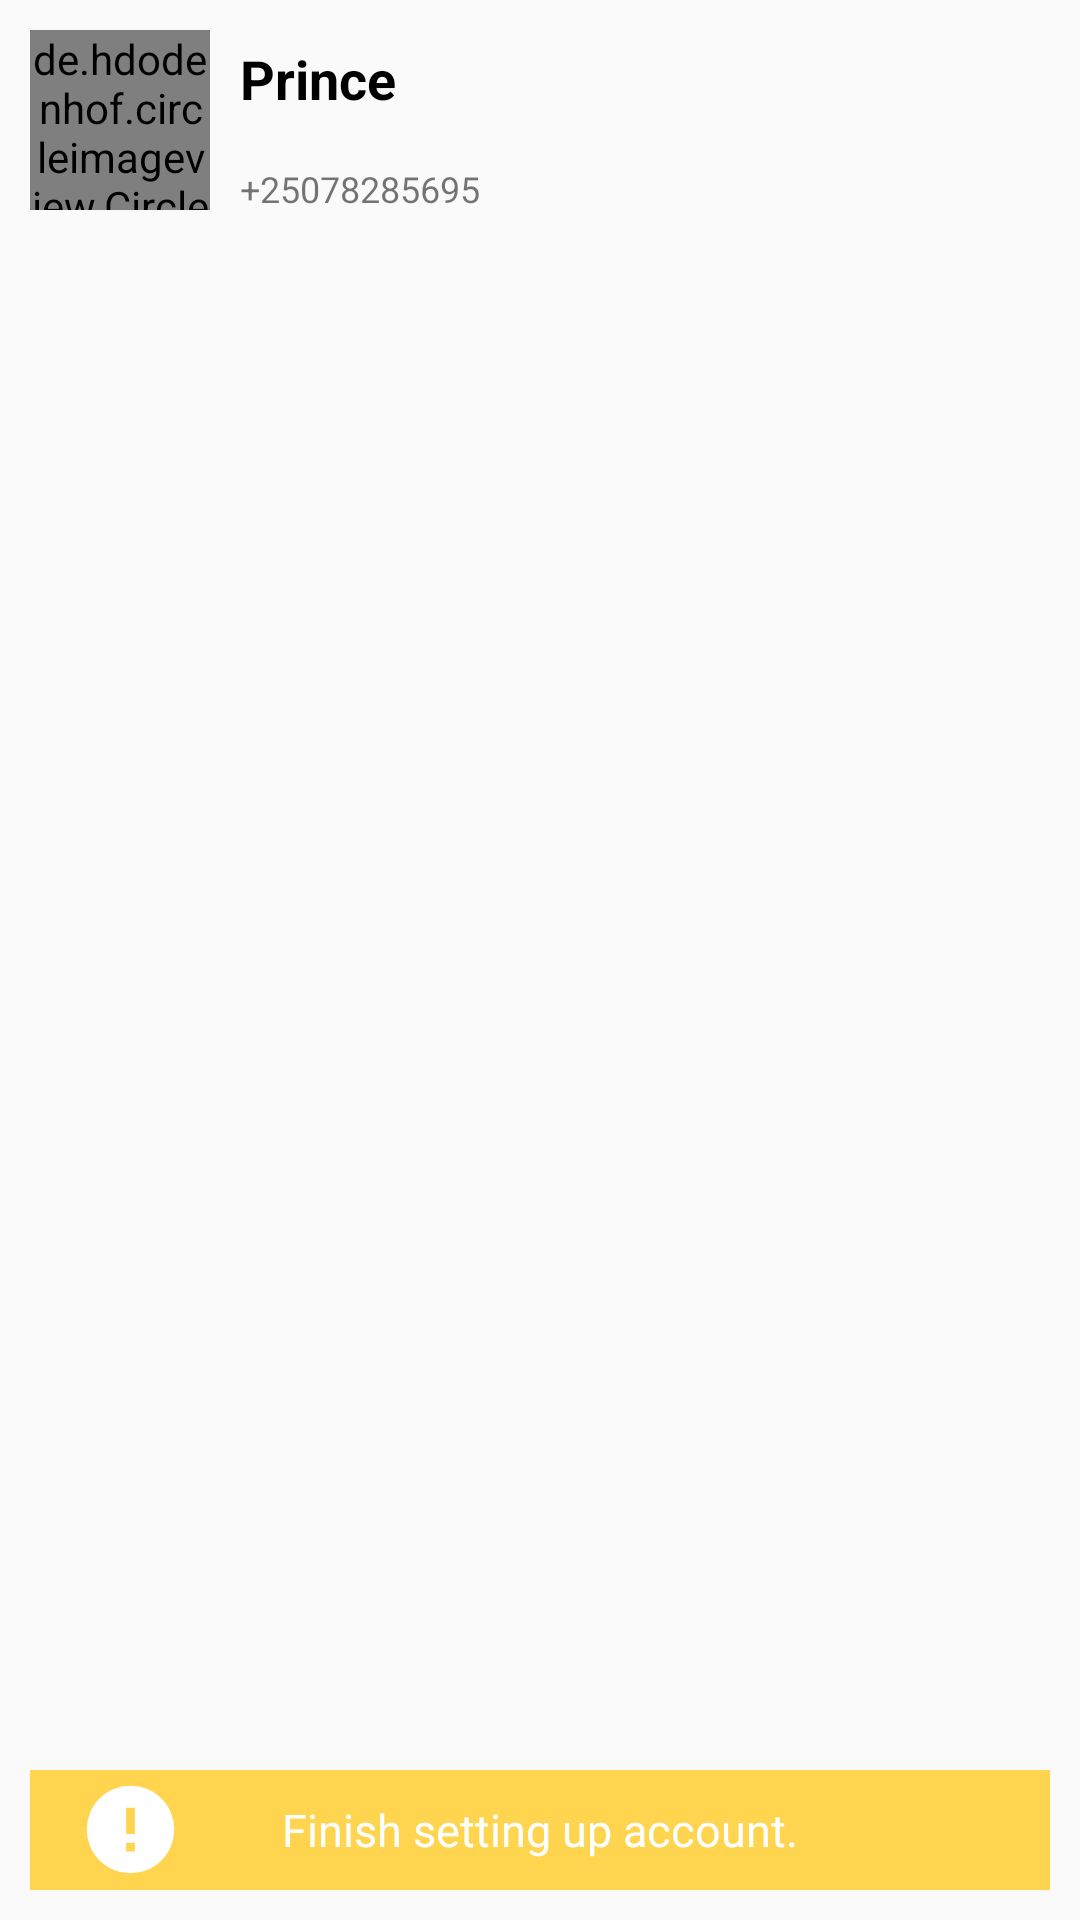

Screen size 1080*1920. Icon name, then its center in pixels as point (x, y):
warning: point (130, 1829)
